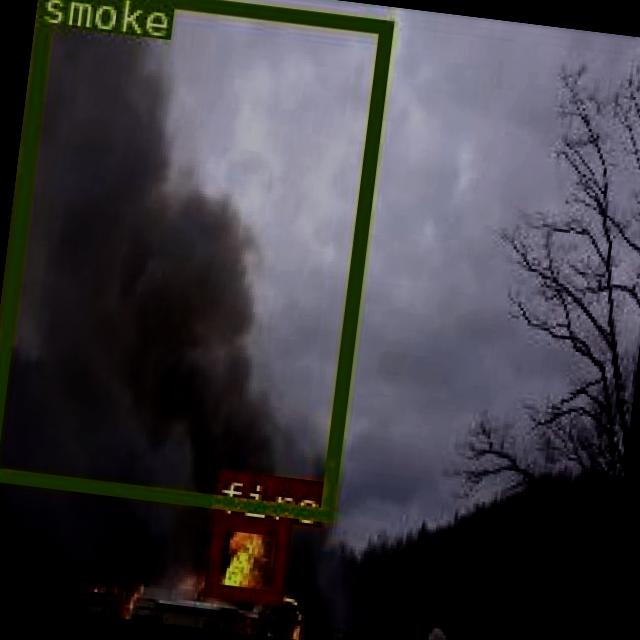fire: (200, 512, 288, 602)
smoke: (0, 0, 391, 517)
